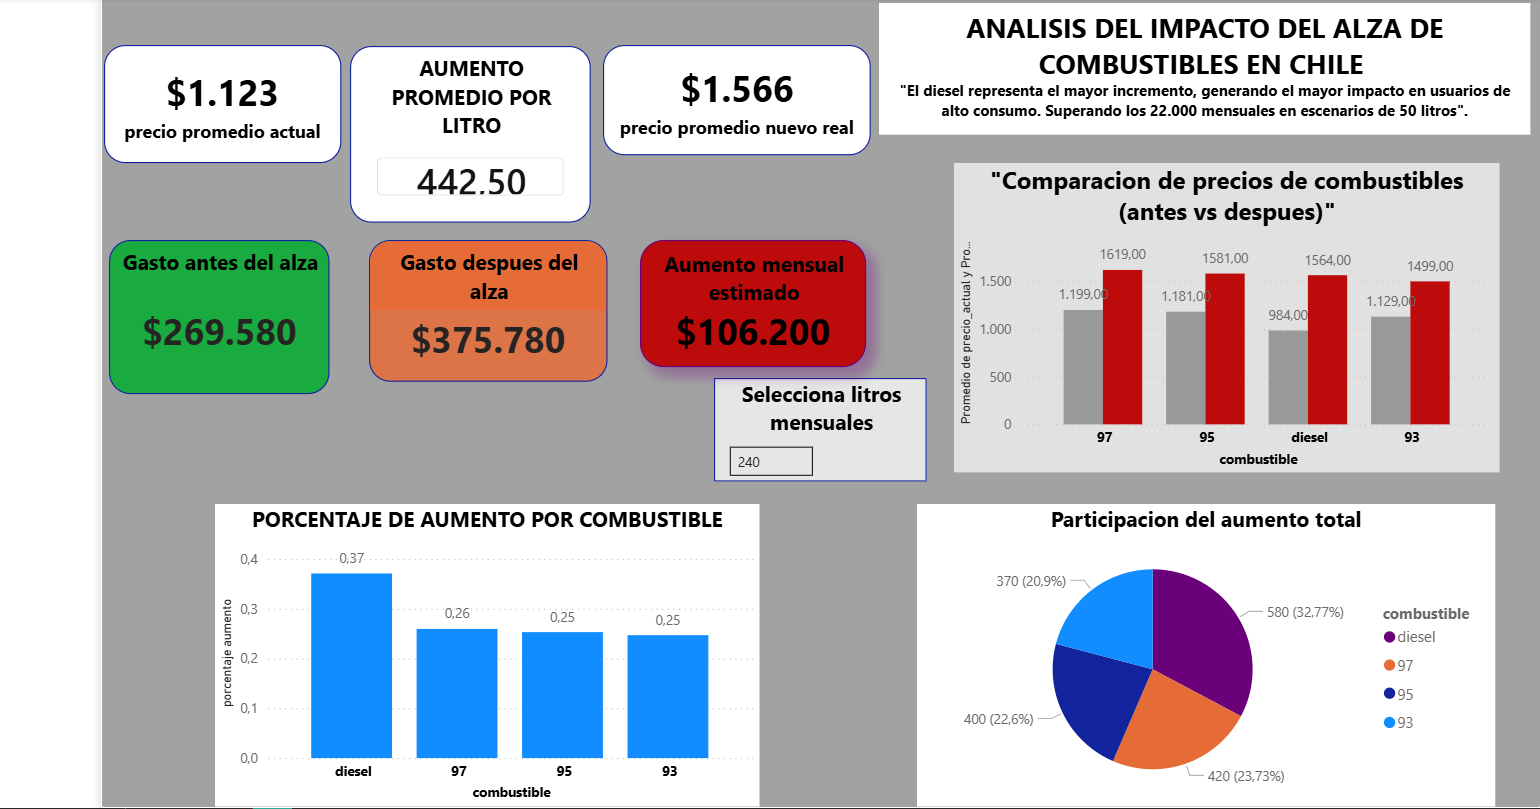

What the dashboard file says about the page in this screenshot:
{"tool":"powerbi","page":{"name":"COMBUSTIBLES","canvas":[1280,720],"ordinal":0},"visuals":[{"type":"pieChart","title":"Participacion del aumento total","fields":{"Category":["Tabla_limpia.combustible"],"Y":["Tabla_limpia.aumento toal"]},"box":[725.7,449.7,513.9,268.8],"z":1000},{"type":"clusteredColumnChart","title":"\"Comparacion de precios de combustibles                             (antes vs despues)\"","fields":{"Category":["Tabla_limpia.combustible"],"Y":["Avg(Tabla_limpia.precio_actual)","Avg(Tabla_limpia.precio_nuevo)"]},"box":[758,146.6,485.1,275.3],"z":2000},{"type":"lineStackedColumnComboChart","title":"PORCENTAJE DE AUMENTO POR COMBUSTIBLE","fields":{"Category":["Tabla_limpia.combustible"],"Y":["Tabla_limpia.porcentaje aumento"]},"box":[101.1,449.7,484.2,268.8],"z":3000},{"type":"textbox","box":[691.2,4.8,579.3,116.6],"z":4000},{"type":"cardVisual","title":"AUMENTO PROMEDIO POR LITRO","fields":{"Data":["Tabla_limpia.aumento promedio por litro"]},"box":[221.3,42.8,214.1,157],"z":5000},{"type":"slicer","title":"Selecciona litros mensuales","fields":{"Values":["litros.litros"]},"box":[544.8,337.8,189.1,91.6],"z":6000},{"type":"card","fields":{"Values":["Tabla_limpia.precio promedio nuevo real"]},"box":[446.1,41.6,237.9,97.5],"z":7000},{"type":"card","title":"Aumento mensual estimado ","fields":{"Values":["Tabla_limpia.diferencia"]},"box":[479.4,215.3,201,113],"z":8000},{"type":"card","fields":{"Values":["Tabla_limpia.precio promedio actual"]},"box":[2.4,41.6,210.6,104.7],"z":9000},{"type":"card","title":"Gasto antes del alza","fields":{"Values":["Tabla_limpia.gasto actual"]},"box":[7.1,215.3,196.3,136.8],"z":10000},{"type":"card","title":"Gasto despues del alza","fields":{"Values":["Tabla_limpia.gasto nuevo"]},"box":[237.9,215.3,211.7,126.1],"z":11000}]}

Visuals, with their boxes on the page's 1280x720 design canvas (x1, y1, x2, y2). These are canvas units, not pixel positions in the 1540x809 screenshot, which may show the page scaled, cropped or inside an application window:
"Participacion del aumento total" pieChart: [726,450,1240,718]
""Comparacion de precios de combustibles                             (antes vs despues)"" clusteredColumnChart: [758,147,1243,422]
"PORCENTAJE DE AUMENTO POR COMBUSTIBLE" lineStackedColumnComboChart: [101,450,585,718]
textbox: [691,5,1270,121]
"AUMENTO PROMEDIO POR LITRO" cardVisual: [221,43,435,200]
"Selecciona litros mensuales" slicer: [545,338,734,429]
card - Tabla_limpia.precio promedio nuevo real: [446,42,684,139]
"Aumento mensual estimado " card: [479,215,680,328]
card - Tabla_limpia.precio promedio actual: [2,42,213,146]
"Gasto antes del alza" card: [7,215,203,352]
"Gasto despues del alza" card: [238,215,450,341]
